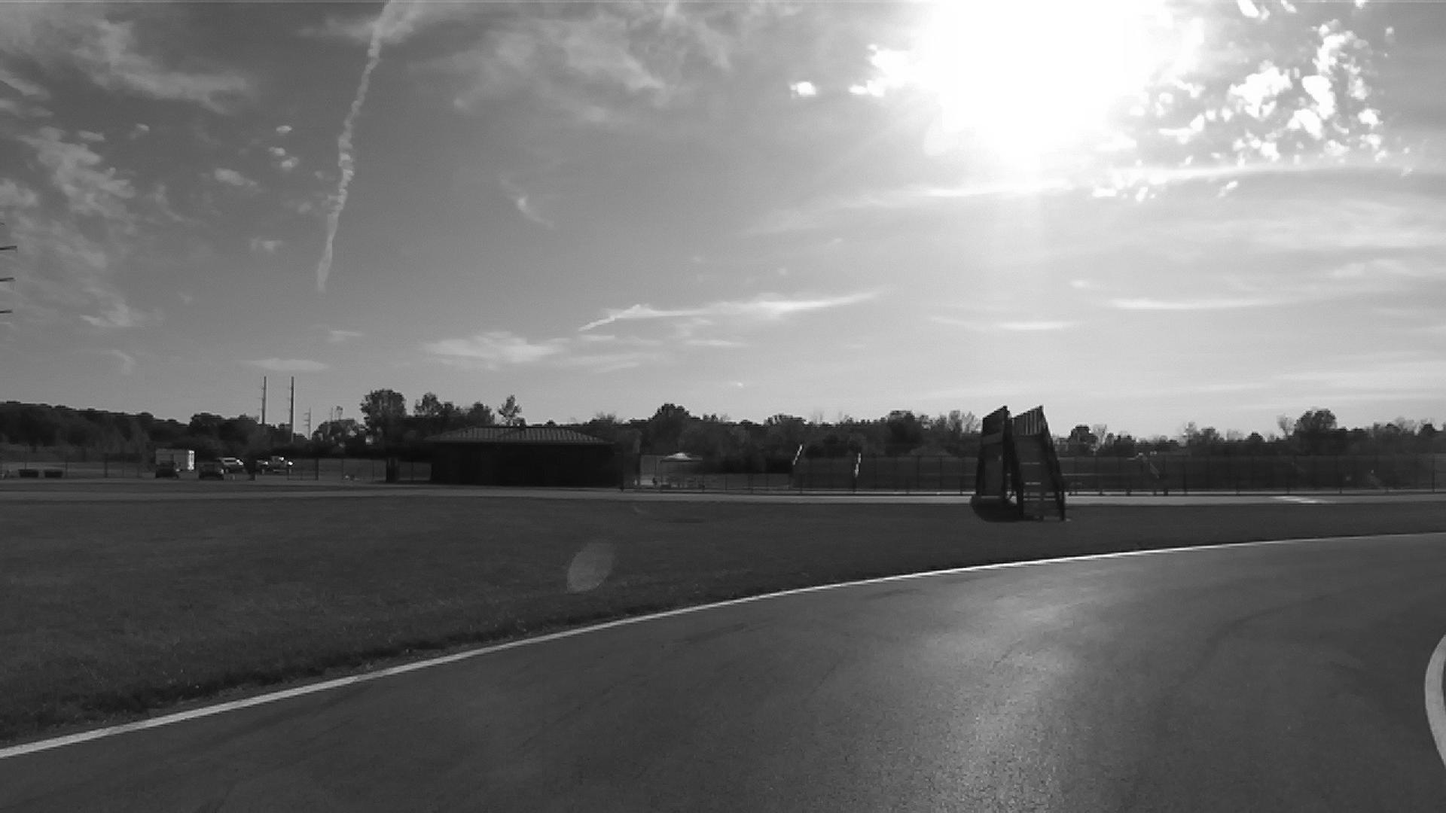white-line: (0, 536, 1373, 759), (1425, 636, 1445, 766)
